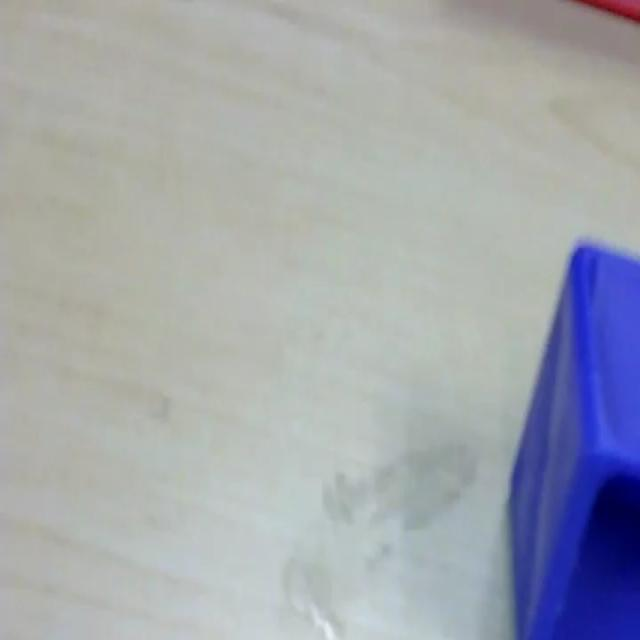blue_block: (506, 235, 638, 637)
